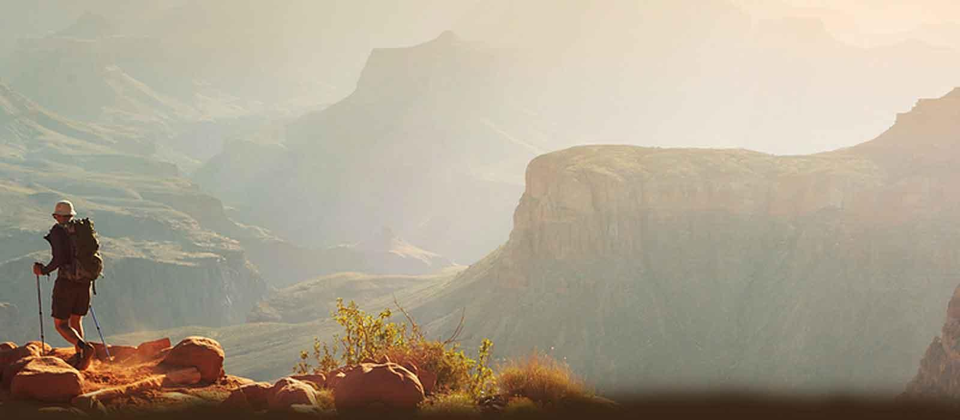person: (33, 201, 105, 374)
